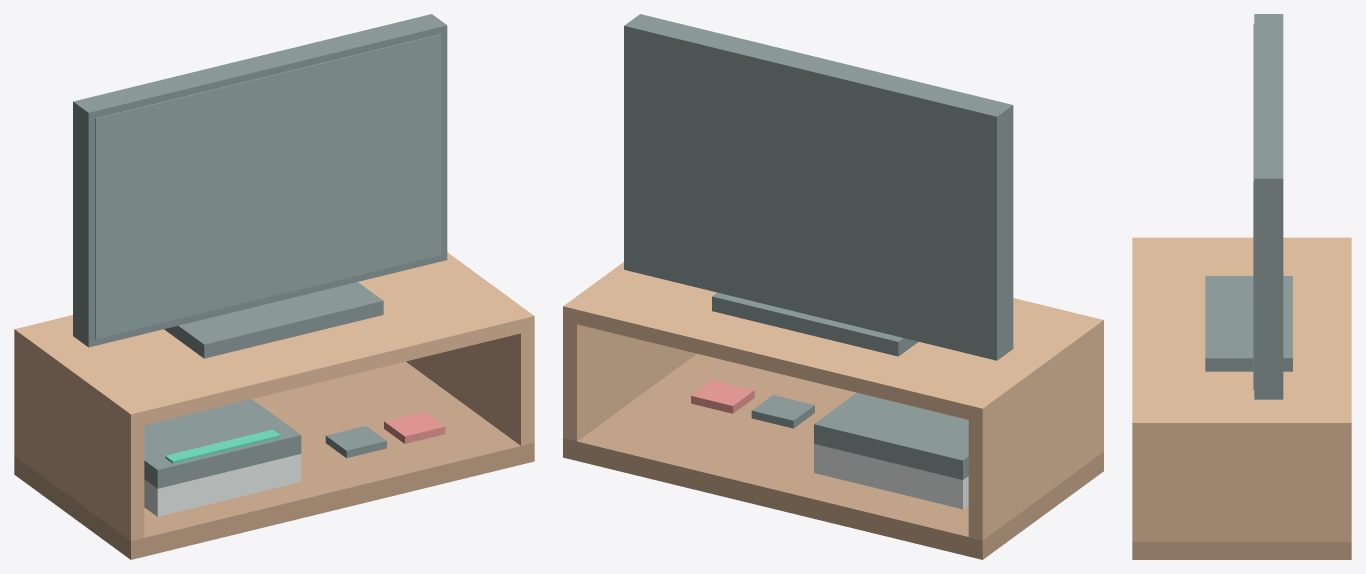
Rendered from consoleSet.glb.
3 views of the same model, side by side, from view 1: azimuth 30°, elevation 25°; view 2: azimuth 150°, elevation 25°; view 3: azimuth 270°, elevation 25° (orthographic). The views are drawn at different scales.
Parts seen in each view (by area): view 1: consoleSet, anim:screen; view 2: consoleSet; view 3: consoleSet, anim:screen.
Part boxes in pixels (x1,y1,x2,y2): consoleSet: (14,14,534,559); anim:screen: (95,34,441,338); consoleSet: (563,14,1103,559); consoleSet: (1132,14,1351,559); anim:screen: (1253,23,1254,389).
Bounding box in the file's own units: 0.45 × 0.42 × 0.225.
